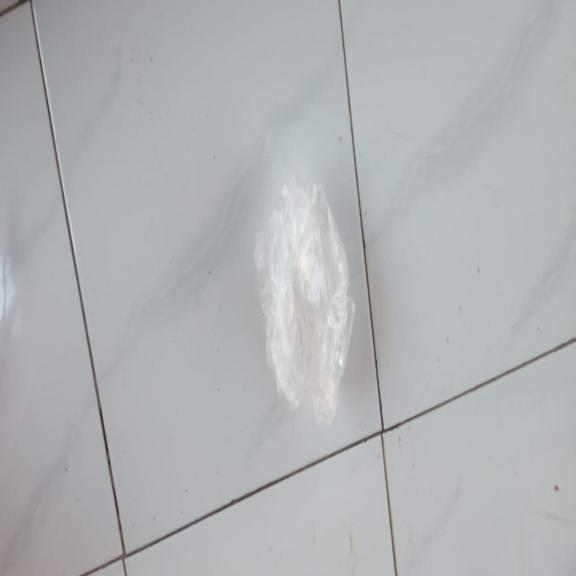Plastik: (255, 173, 356, 429)
